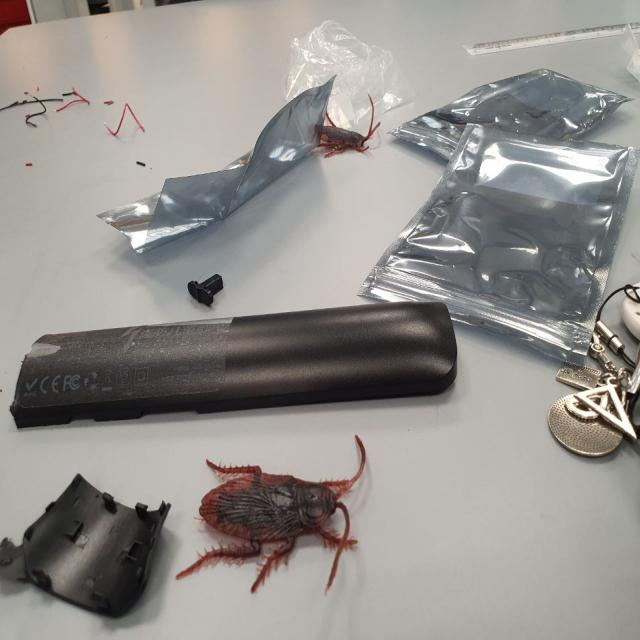Cockroach: (179, 438, 375, 600), (310, 85, 384, 161)
